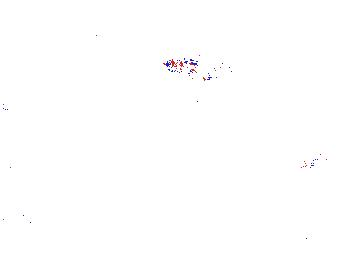red belly glassfish: (161, 54, 238, 77)
redtail glassfish: (295, 148, 346, 176)
